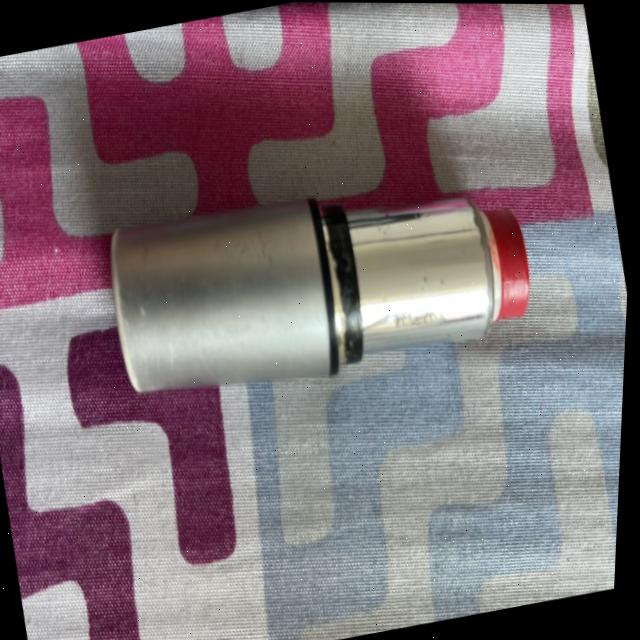lip stick: (70, 120, 583, 485)
